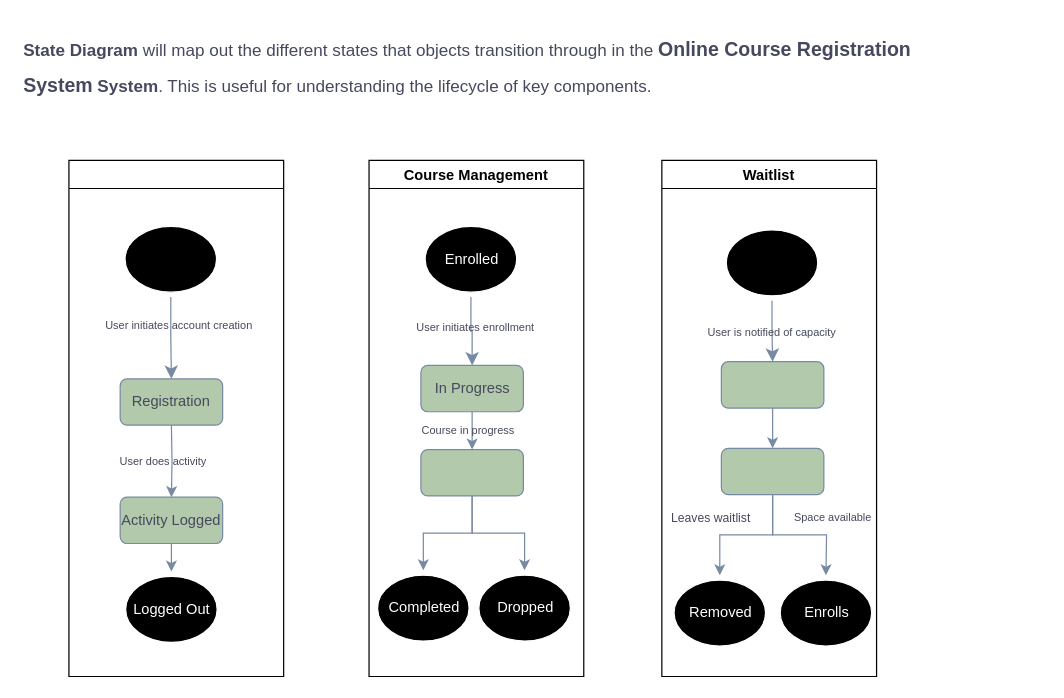
This 1064x698 diagram has some shape labels left out. Each missing label, with the box of its shape:
Course ends: (420, 448, 523, 496)
Course Full: (720, 224, 823, 301)
Join Waitlist: (720, 361, 824, 408)
On Waitlist: (720, 447, 824, 495)
Unregistered: (119, 220, 221, 297)
User Account: (68, 159, 284, 676)
